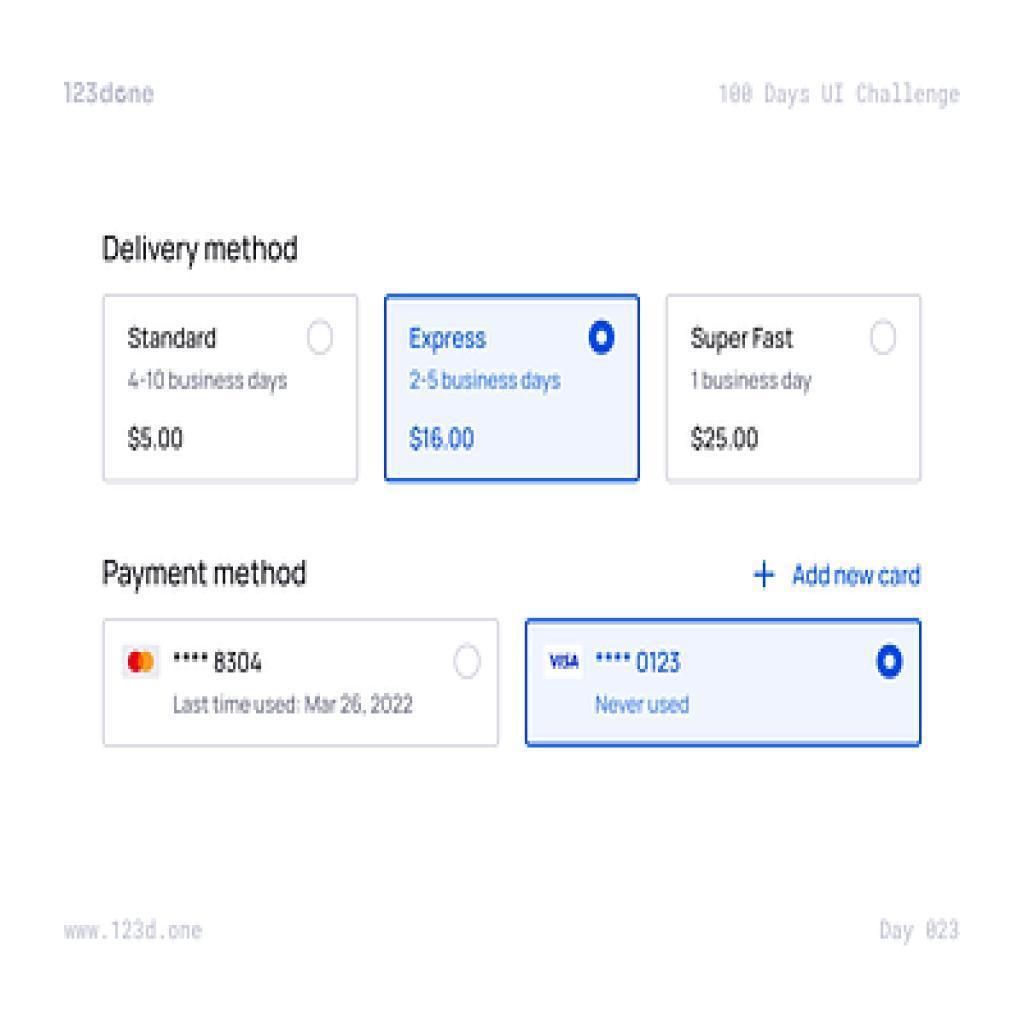radio: (871, 638, 914, 694), (452, 640, 486, 683), (305, 318, 338, 362), (586, 320, 620, 361), (868, 318, 900, 359)
